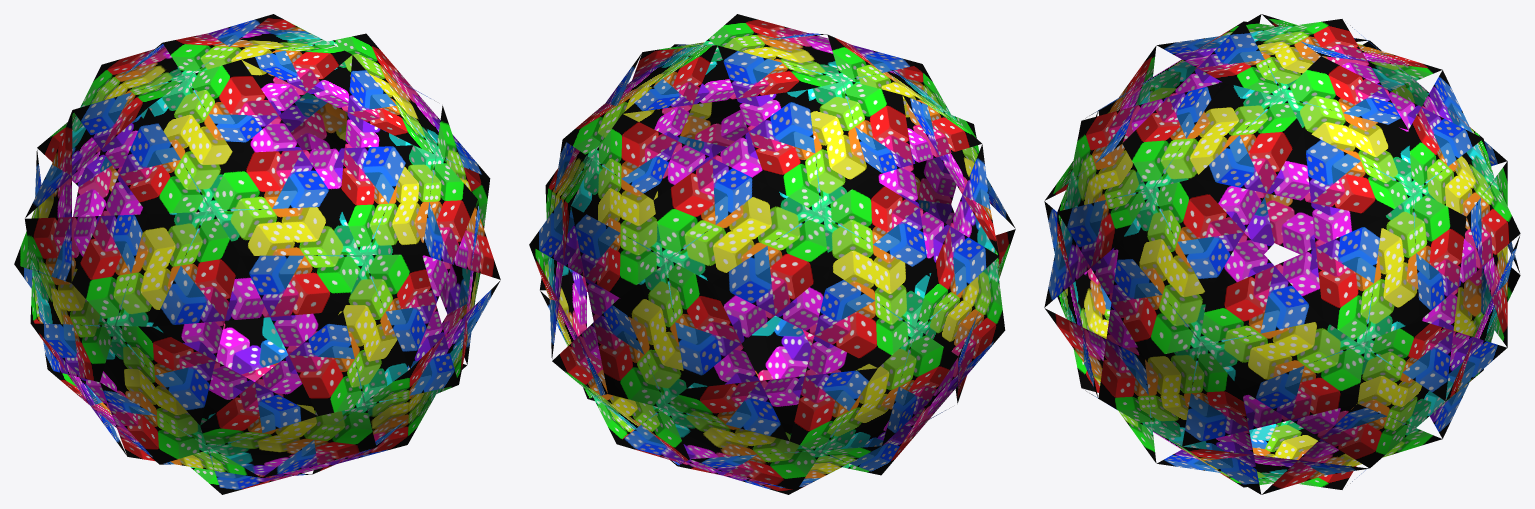
Rendered from 19SnubDodecadodecahedron.gltf.
3 views of the same model, side by side, from view 1: azimuth 30°, elevation 25°; view 2: azimuth 150°, elevation 25°; view 3: azimuth 270°, elevation 25° (orthographic).
Parts seen in each view (by area): view 1: 16SnubDodecadodecahedron; view 2: 16SnubDodecadodecahedron; view 3: 16SnubDodecadodecahedron.
Part boxes in pixels (x1,y1,x2,y2): 16SnubDodecadodecahedron: (14, 14, 500, 494); 16SnubDodecadodecahedron: (529, 14, 1015, 494); 16SnubDodecadodecahedron: (1044, 14, 1520, 494).
Bounding box in the file's own units: 2.48 × 2.48 × 2.48.
Materials: 1 (1 with a texture image).
